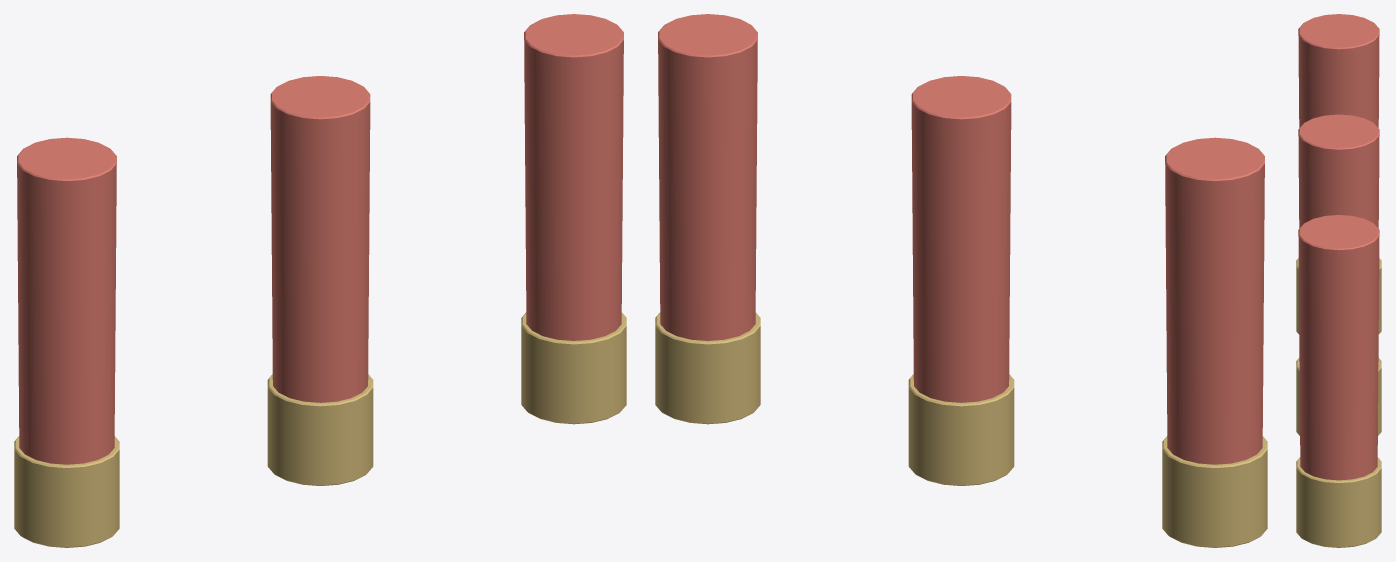
Rendered from IT_ammo_shell.fbx.
3 renders of one model, left to right at view 1: azimuth 30°, elevation 25°; view 2: azimuth 150°, elevation 25°; view 3: azimuth 270°, elevation 25°, orthographic. The views are drawn at different scales.
Parts seen in each view (by area): view 1: IT_ammo_shell; view 2: IT_ammo_shell; view 3: IT_ammo_shell.
Boxes of the visible parts, <box> form: IT_ammo_shell: <box>14,14,626,547</box>; IT_ammo_shell: <box>655,14,1267,547</box>; IT_ammo_shell: <box>1296,14,1381,547</box>.
Size of the model in its own units: 0.615 by 0.36 by 0.0936.
